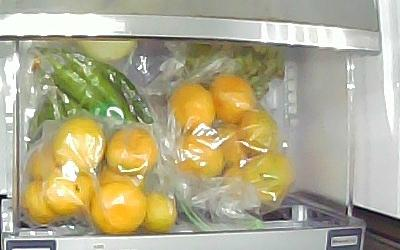tangerine_vinyl: (93, 180, 146, 237), (107, 124, 158, 177), (53, 119, 104, 171), (243, 155, 291, 206), (175, 129, 223, 177), (210, 75, 255, 123), (168, 82, 213, 127), (47, 170, 93, 212), (239, 110, 279, 154), (22, 180, 58, 225), (143, 191, 179, 235), (215, 123, 246, 167), (100, 166, 146, 189), (222, 166, 246, 208), (28, 147, 54, 184)
